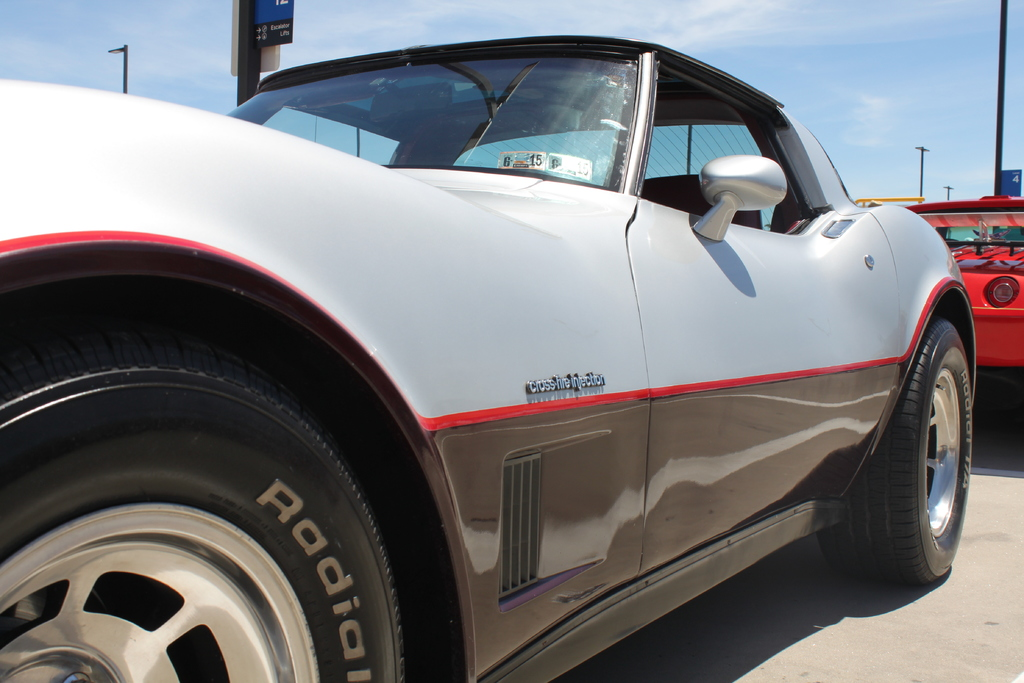Car: (6, 10, 1022, 683), (907, 192, 1023, 407)
